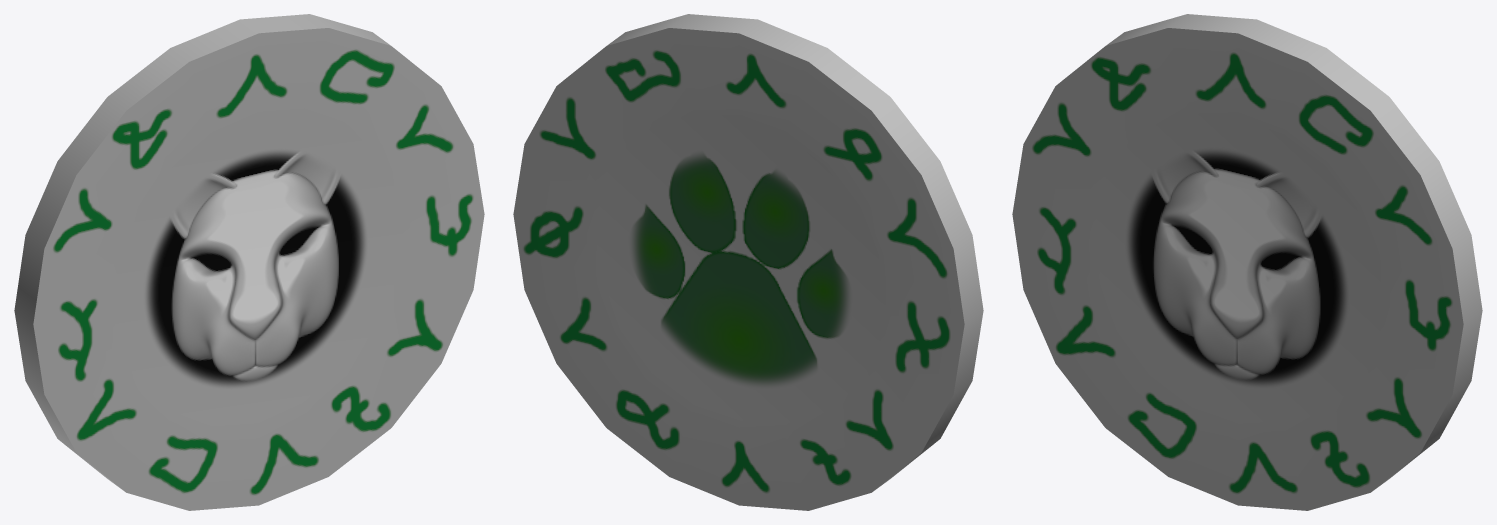
Rendered from coin_green03.fbx.
The picture shows the model from 3 angles, left to right: view 1: azimuth 30°, elevation 25°; view 2: azimuth 150°, elevation 25°; view 3: azimuth 330°, elevation 25°; orthographic projection.
Parts seen in each view (by area): view 1: coin_green; view 2: coin_green; view 3: coin_green.
Boxes of the visible parts, x1,y1,x2,y2 form: coin_green: (14,14,484,510); coin_green: (513,14,983,510); coin_green: (1012,14,1482,510).
Bounding box in the file's own units: 0.4438 × 0.4438 × 0.0323.
1 material, 1 textured.
